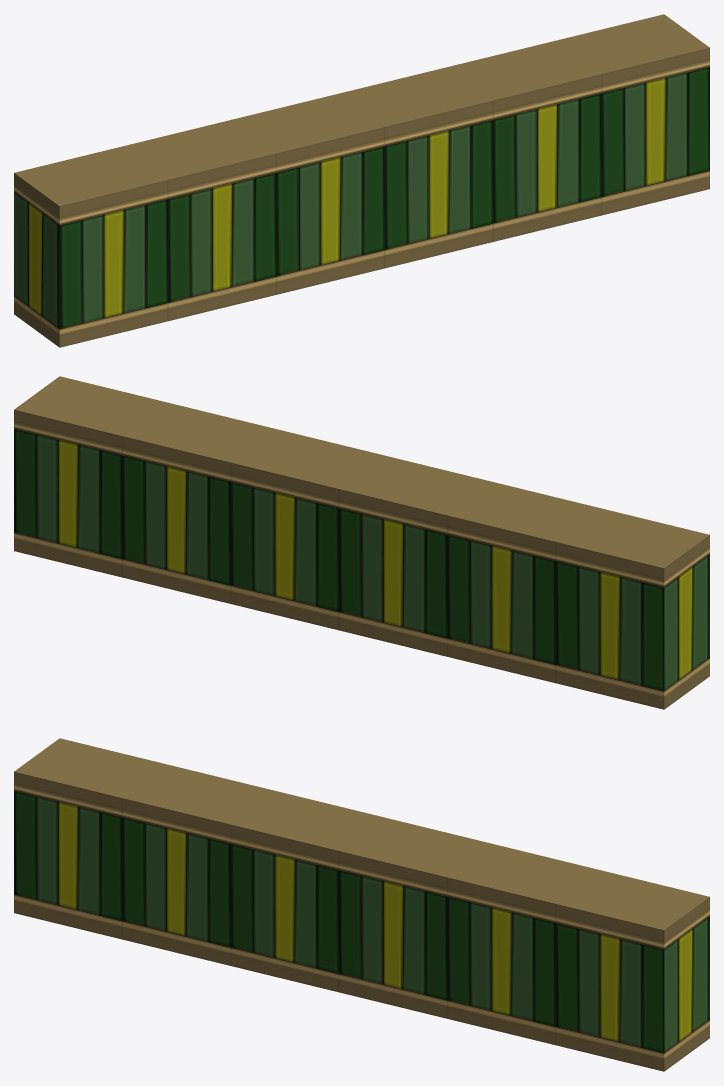
File: egypt_small_border.gltf
The picture shows the model from 3 angles, top to bottom: view 1: azimuth 30°, elevation 25°; view 2: azimuth 150°, elevation 25°; view 3: azimuth 330°, elevation 25°; orthographic projection.
Parts seen in each view (by area): view 1: egypt_border_small_glb; view 2: egypt_border_small_glb; view 3: egypt_border_small_glb.
Boxes of the visible parts, <box> form: egypt_border_small_glb: <box>14,14,709,347</box>; egypt_border_small_glb: <box>14,376,709,709</box>; egypt_border_small_glb: <box>14,738,709,1071</box>.
Size of what is drawn, in the model's own units: 2.27 by 0.4726 by 0.2771.
1 material, 1 textured.
